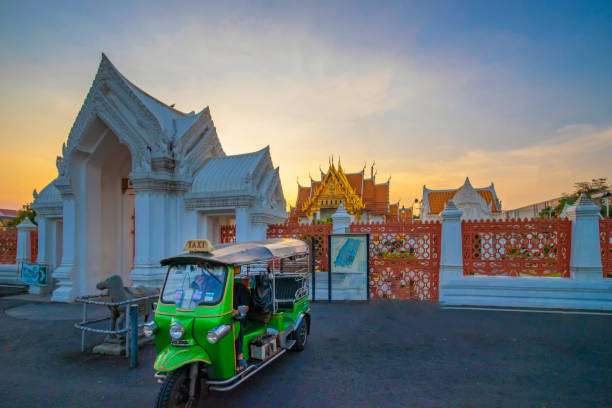threewheel: (142, 238, 312, 408)
